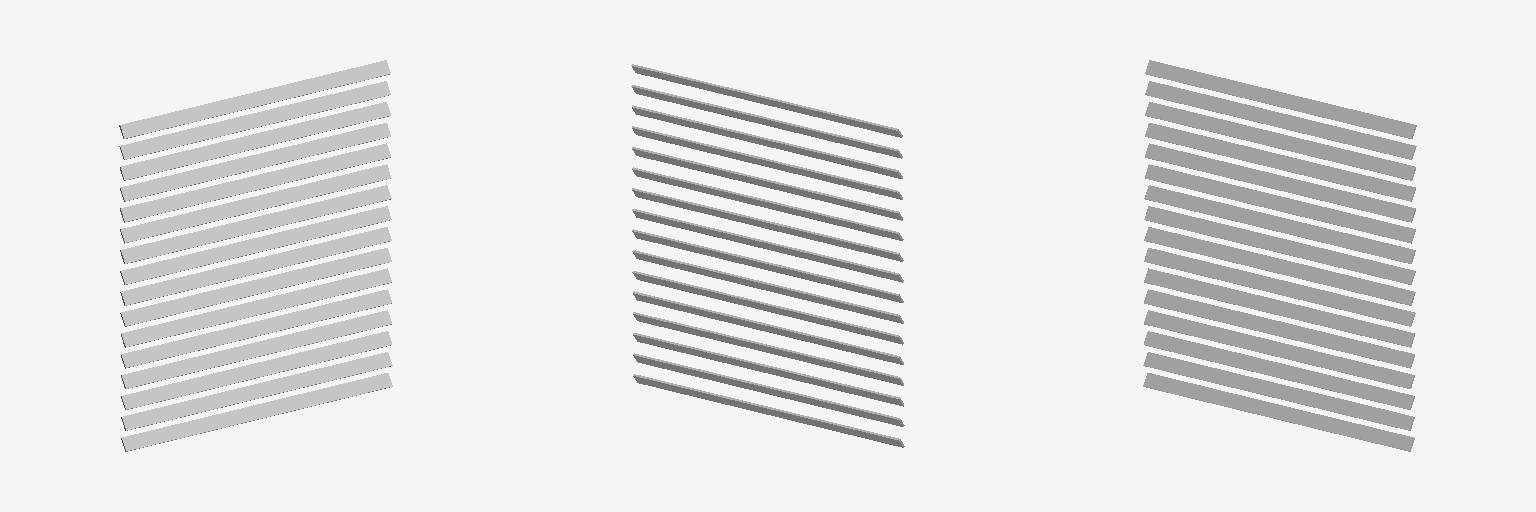
File: curtain1.obj
3 views of the same model, side by side, from view 1: azimuth 30°, elevation 25°; view 2: azimuth 150°, elevation 25°; view 3: azimuth 330°, elevation 25° (orthographic).
Parts seen in each view (by area): view 1: Cube.024; view 2: Cube.024; view 3: Cube.024.
Boxes of the visible parts, x1,y1,x2,y2 form: Cube.024: [119, 60, 392, 451]; Cube.024: [631, 64, 904, 447]; Cube.024: [1143, 60, 1416, 451].
Bounding box in the file's own units: 7.17 × 8.31 × 0.3356.